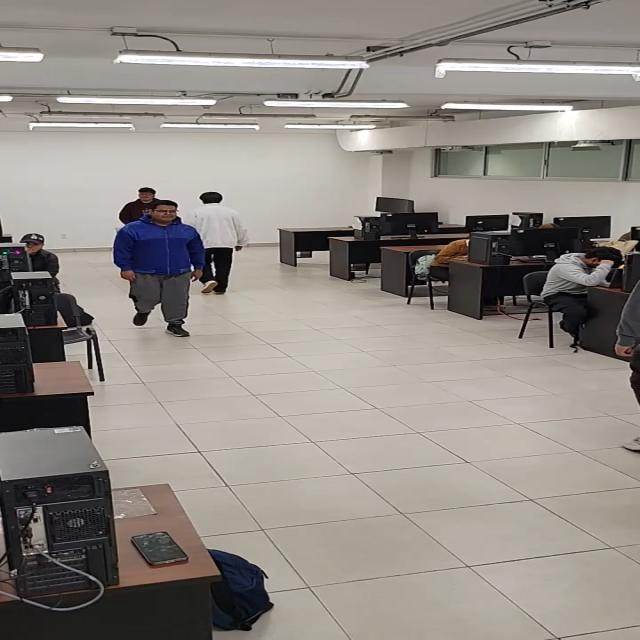Persona: (111, 199, 205, 338), (182, 191, 248, 295), (118, 186, 166, 230)
